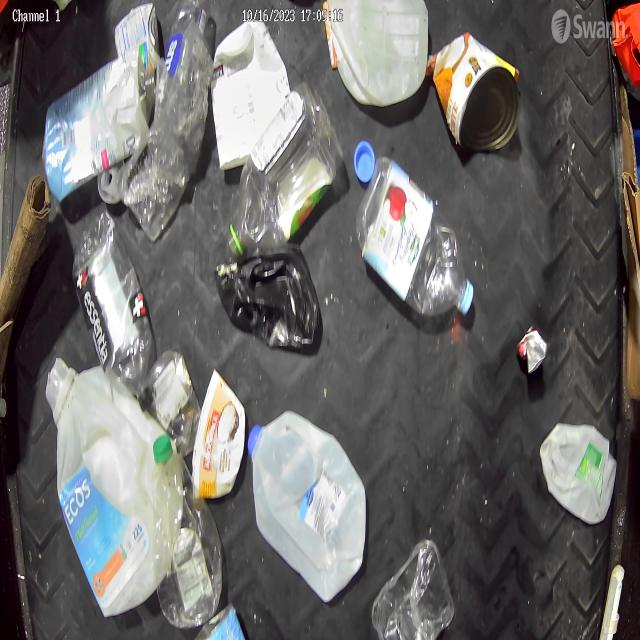can: (432, 33, 518, 153), (516, 330, 552, 374)
milk_jug: (48, 360, 164, 607), (243, 415, 367, 599), (46, 44, 149, 192), (320, 1, 429, 106), (543, 419, 618, 520)
plastic_bottle: (358, 157, 473, 320), (230, 88, 338, 253), (148, 0, 217, 205), (156, 426, 223, 609)
